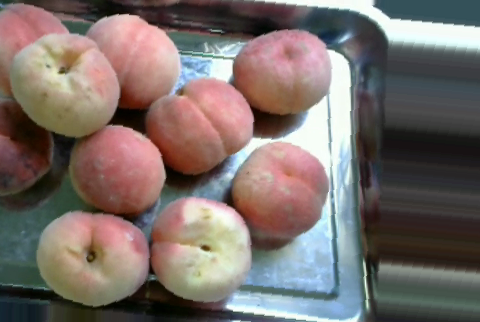Peach: (11, 28, 119, 138), (150, 196, 252, 304), (36, 211, 147, 307), (146, 77, 253, 175), (225, 140, 328, 241), (222, 27, 330, 115), (88, 13, 181, 110), (69, 124, 166, 216), (0, 94, 54, 197), (2, 2, 65, 84)
